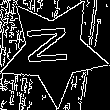N_E: (28, 28, 80, 73)
